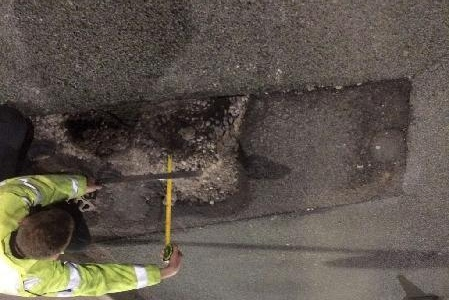pothole: (148, 90, 257, 220)
